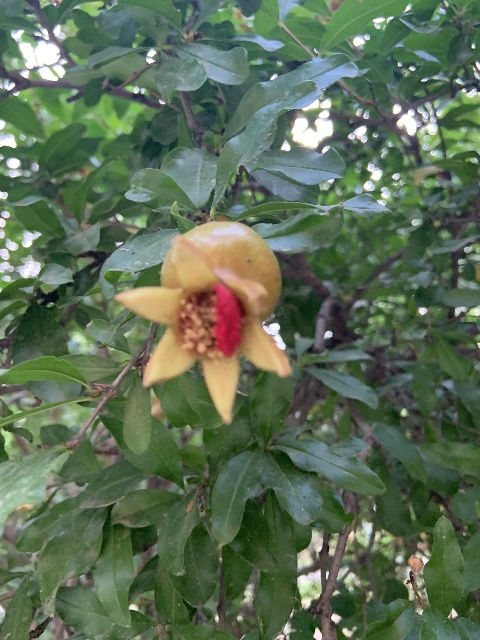early-fruit: (113, 218, 292, 425)
